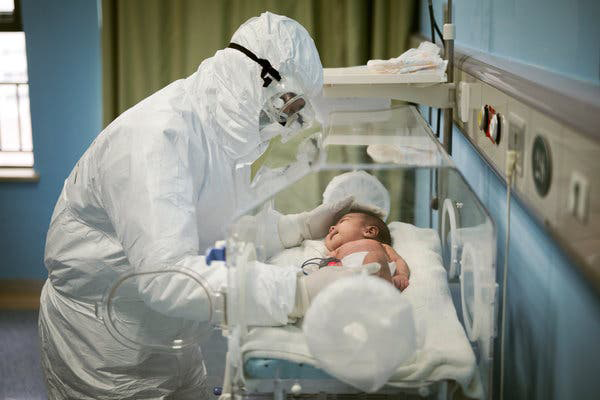Coverall: (40, 12, 322, 398)
Gloves: (295, 263, 381, 311), (301, 195, 379, 236)
Goggles: (262, 83, 318, 136)
with_mask: (260, 119, 288, 145)
